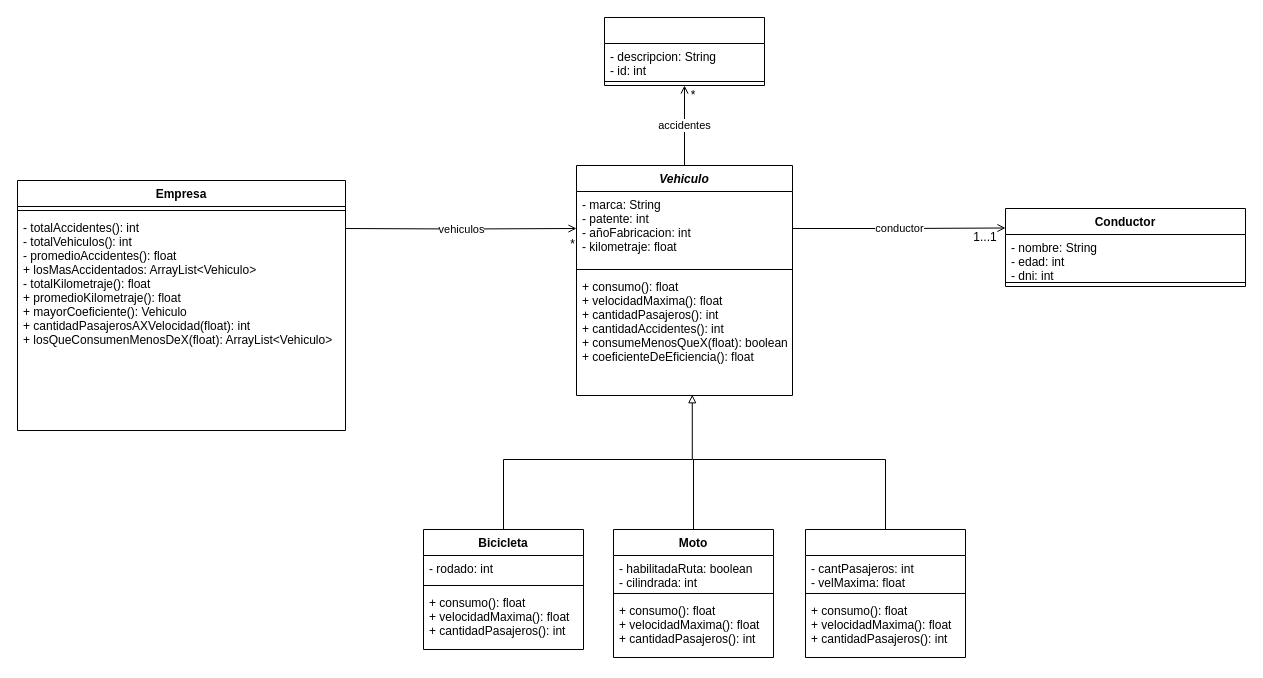
Some shapes in this 1263 by 678 pixel diagram are drawn without their labels. Here are the shapes that lost their labels. From the top down, the box of each, then its label:
(604, 16, 764, 86): Accidente
(804, 528, 966, 658): Auto
